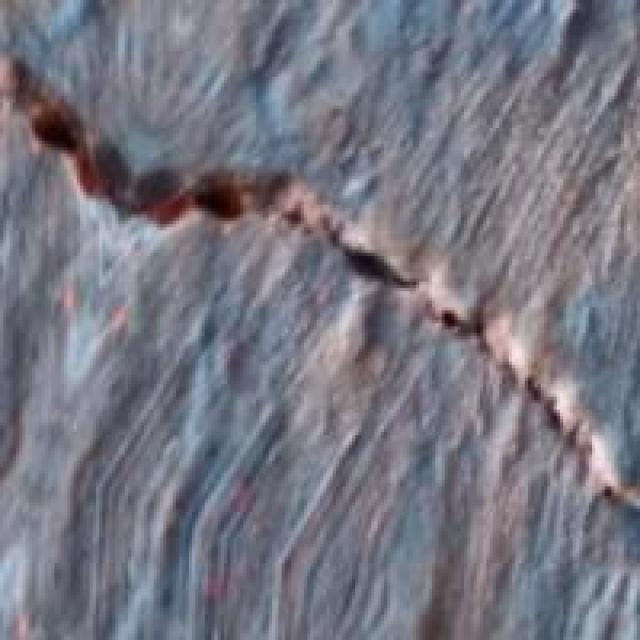SurfaceCrack: (0, 42, 640, 550)
